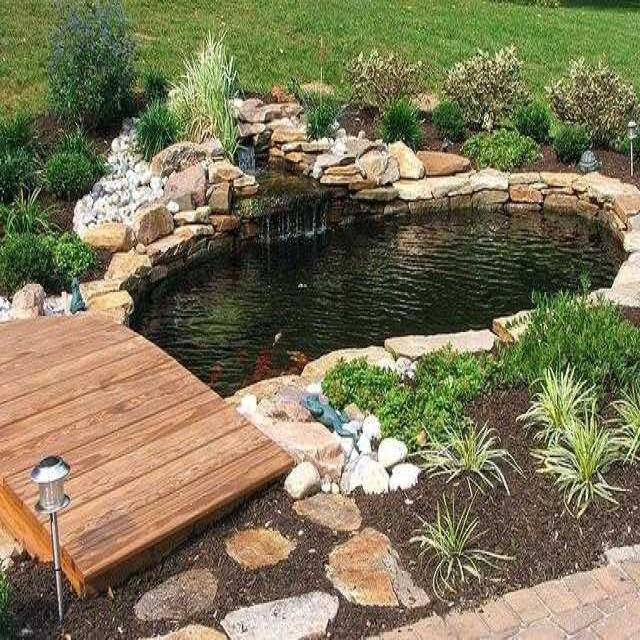Ponds: (90, 98, 640, 427)
